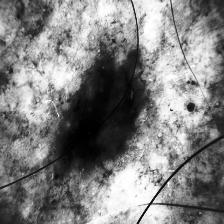Benign Marking or Mole: (53, 57, 151, 177)
